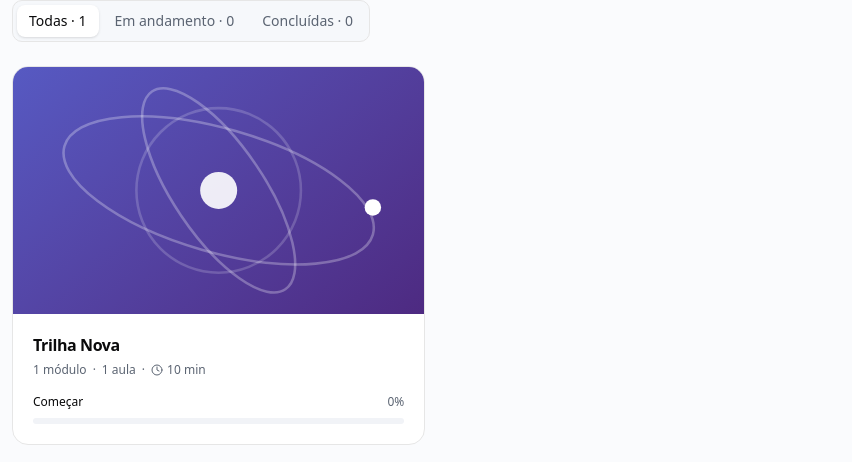
Test: ClientCourses › invites action when a filter is empty
The width and height of the screenshot is (852, 462).
Click the tab "Concluídas · 0" at (308, 21), box [250,5,365,37]
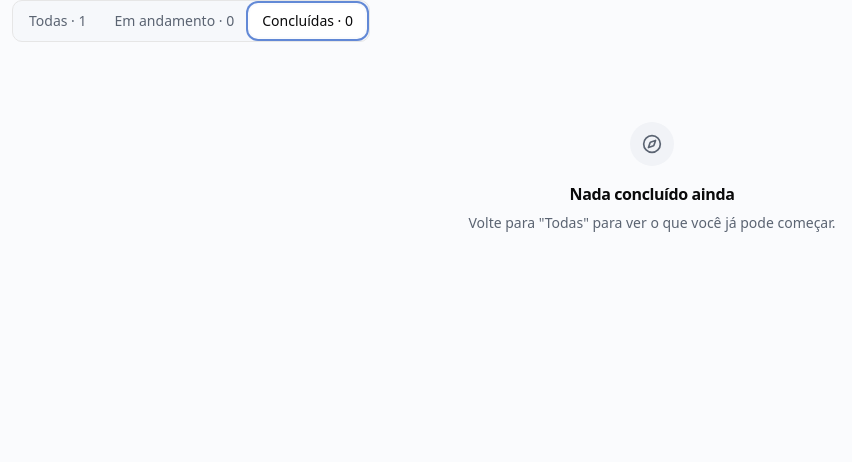
Now the heading "Nada concluído ainda" is shown, box [570,183,734,205]
